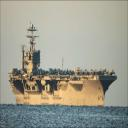Portanaves: (9, 17, 119, 107)
